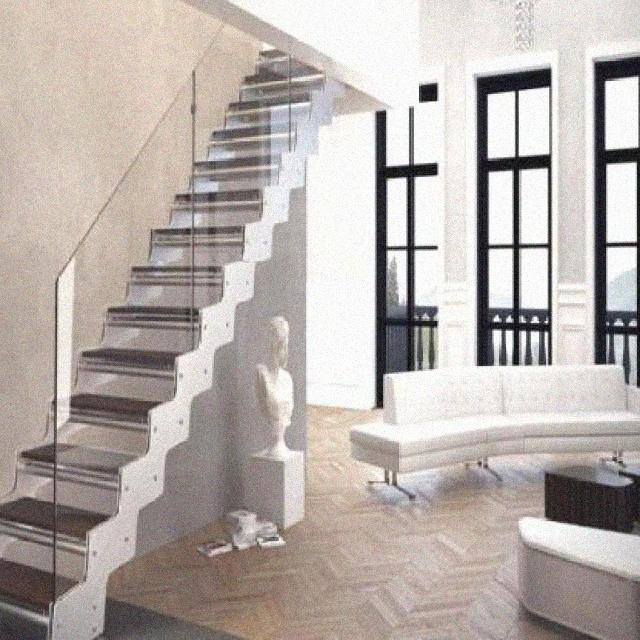stair: (0, 36, 343, 638)
